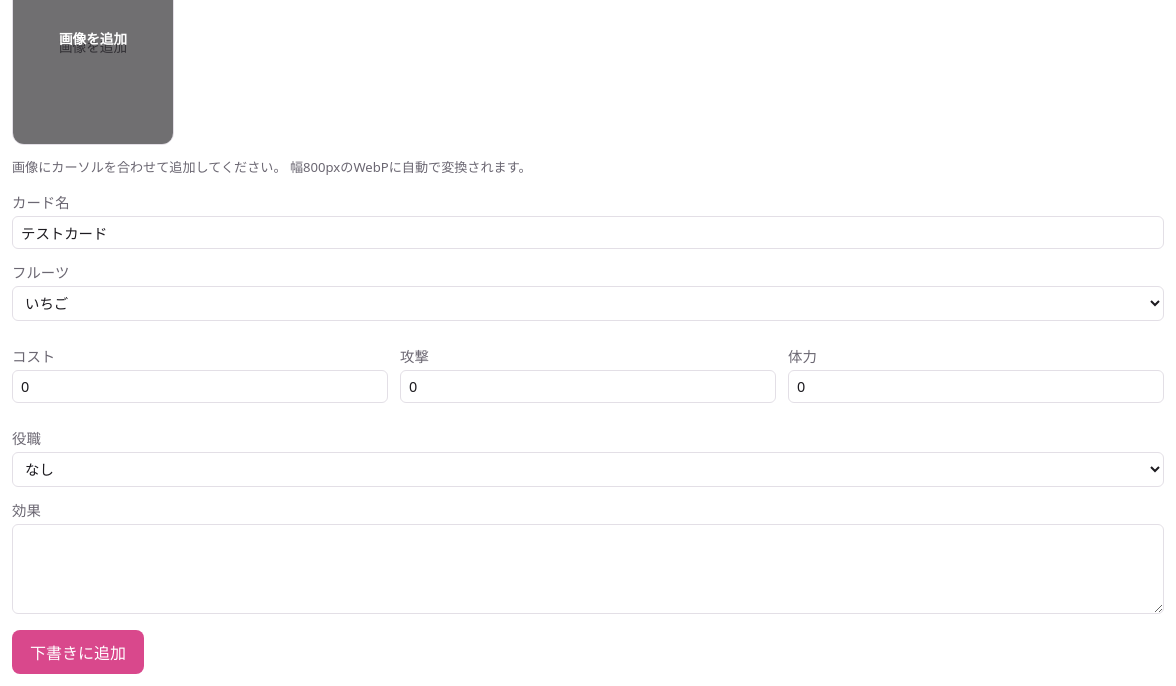
CardForm › surfaces per-field validation errors from the server
(page scrolled)
Click the button "下書きに追加".
click(78, 652)  # box [12, 630, 144, 674]
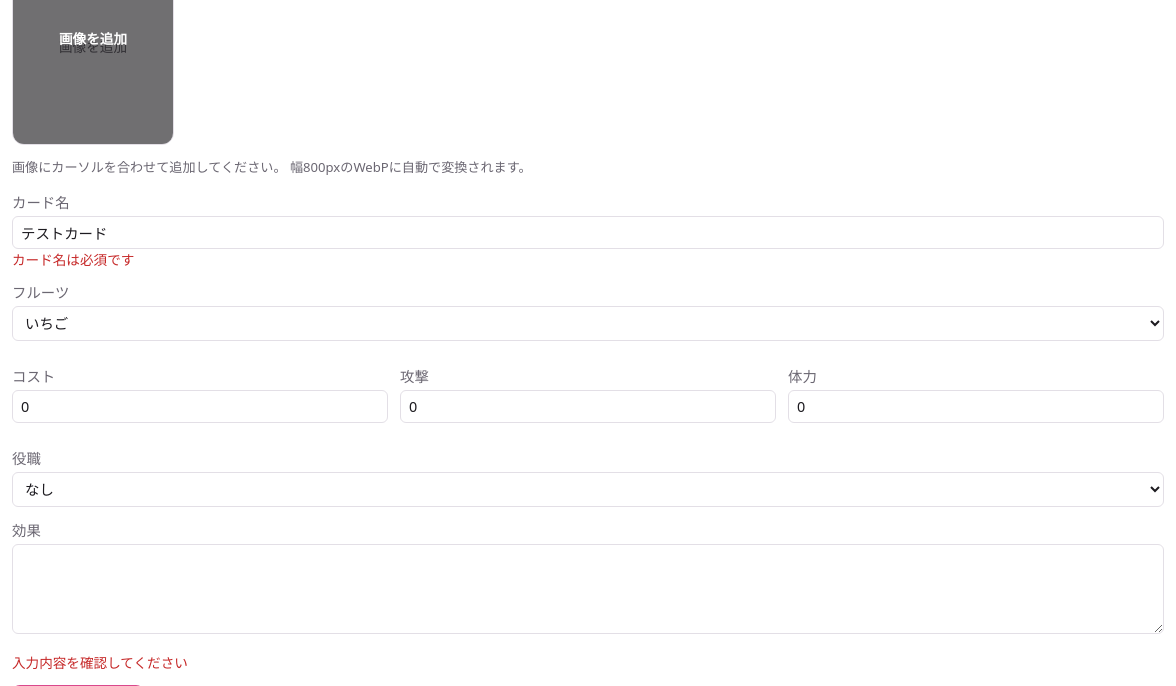
Now the text "カード名は必須です" is shown, box [12, 250, 134, 269]
Now the text "入力内容を確認してください" is shown, box [12, 653, 188, 672]
